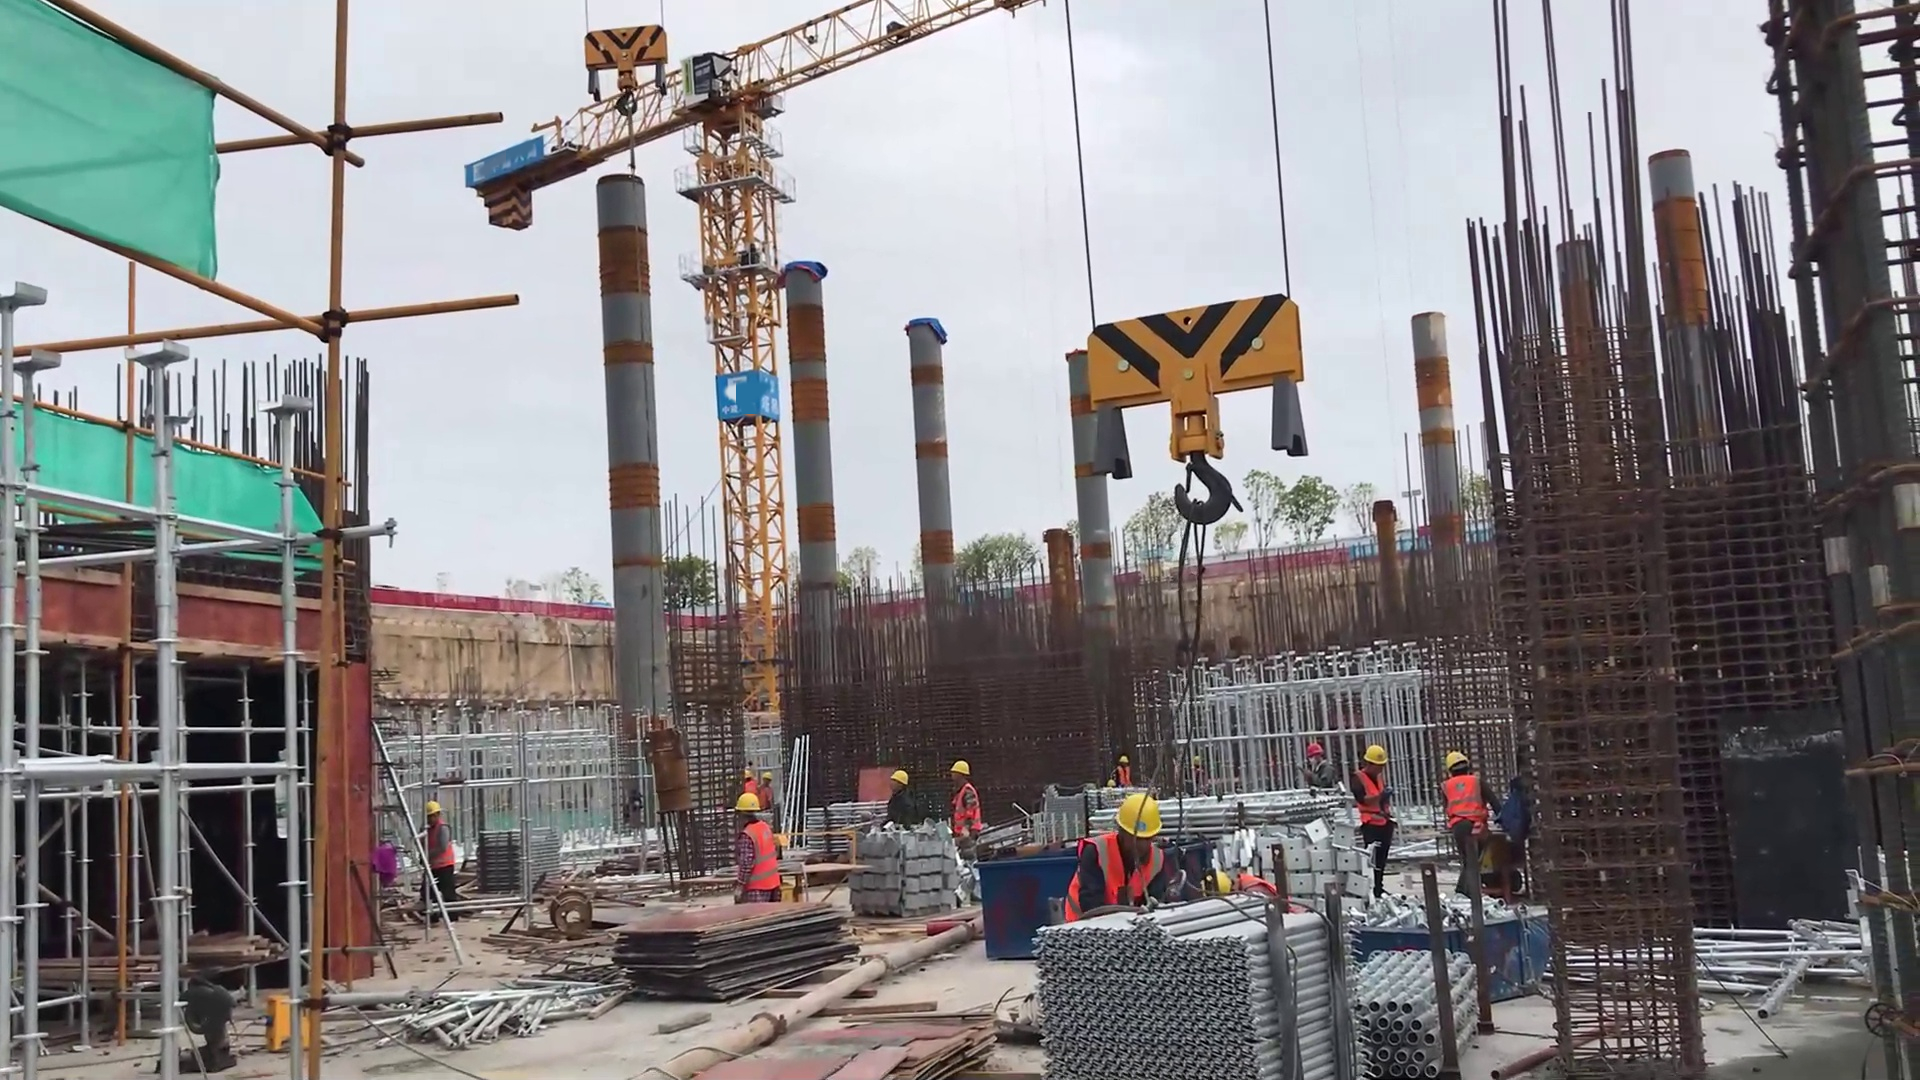helmet: (1117, 789, 1161, 842), (1358, 731, 1403, 774), (1432, 733, 1477, 773), (416, 795, 447, 830), (735, 784, 771, 811), (1293, 733, 1328, 761), (883, 756, 915, 781), (943, 760, 975, 783)
person: (1062, 774, 1188, 927), (1432, 746, 1511, 901), (727, 783, 794, 912), (866, 762, 931, 846), (1344, 734, 1394, 841), (427, 787, 465, 908)
vest: (1071, 824, 1179, 922), (739, 814, 790, 889), (1443, 765, 1493, 835), (944, 769, 990, 843), (1358, 768, 1405, 838), (424, 816, 450, 873)
